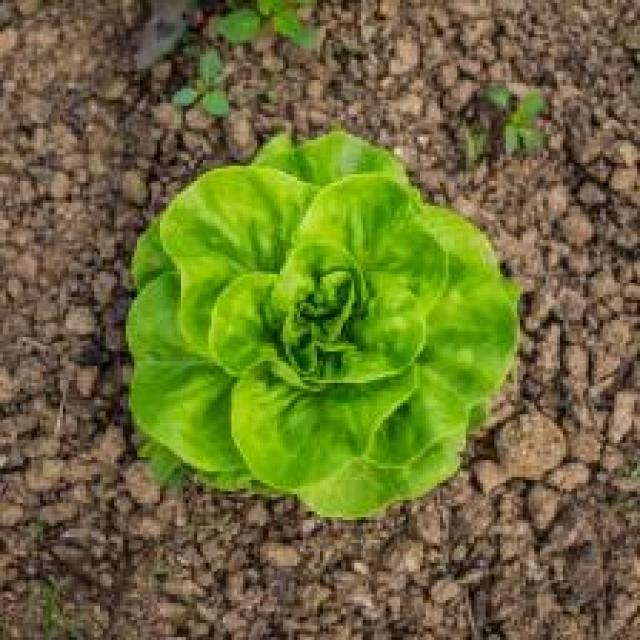Lettuce: (121, 130, 522, 522)
